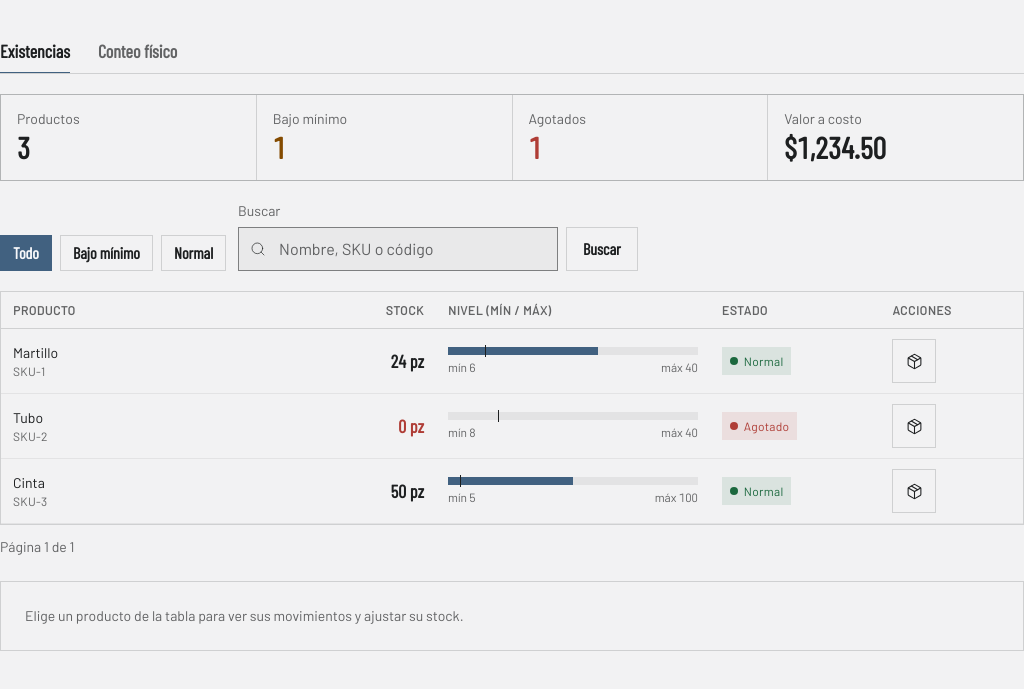
it: Inventario con el diseño Industry › avisa si el ajuste anuló la captura del producto en un conteo en curso (RF-32)
Click the button named "Ajustar stock de Martillo" at (914, 361), box [892, 339, 936, 383]
(page scrolled)
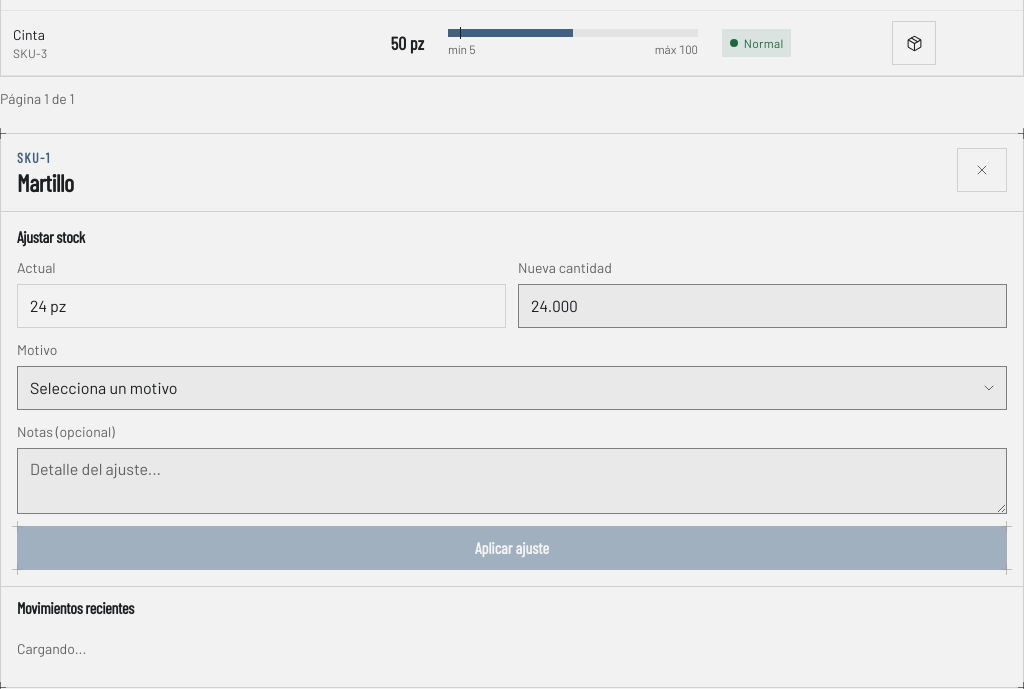
Replace the text in the number field labelled "Nueva cantidad" with "20" at (762, 306), box [518, 284, 1007, 328]
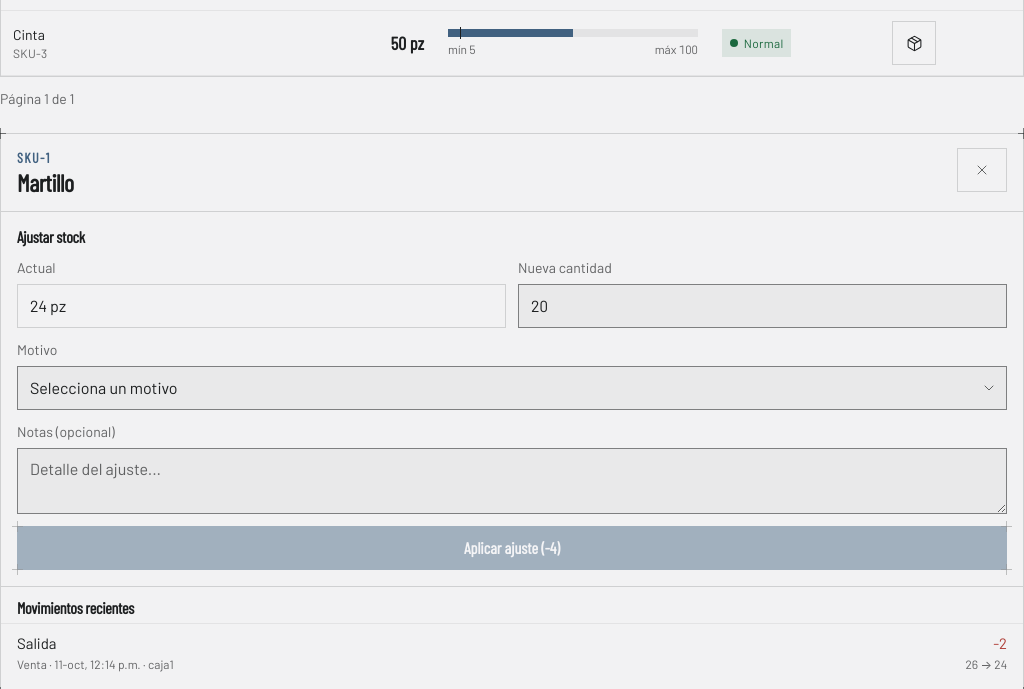
Select "Merma o daño" in the dropdown labelled "Motivo" at (512, 388), box [17, 366, 1007, 410]
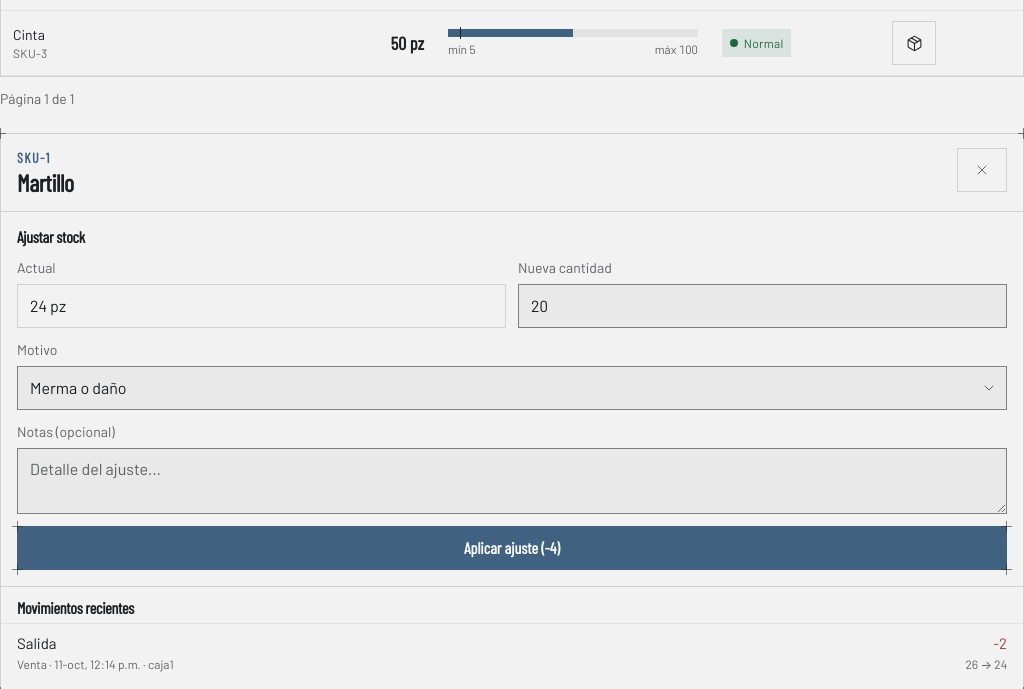
Click the button "Aplicar ajuste (-4)" at (512, 548), box [17, 526, 1007, 570]
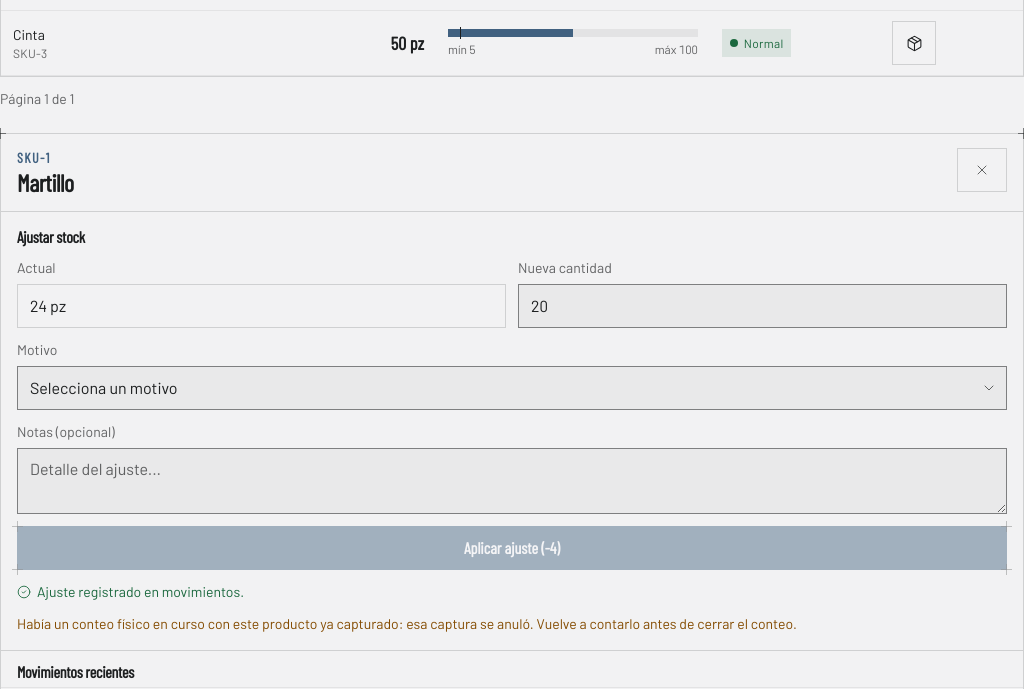
Now the text "esa captura se anuló" is shown, box [17, 615, 797, 632]
